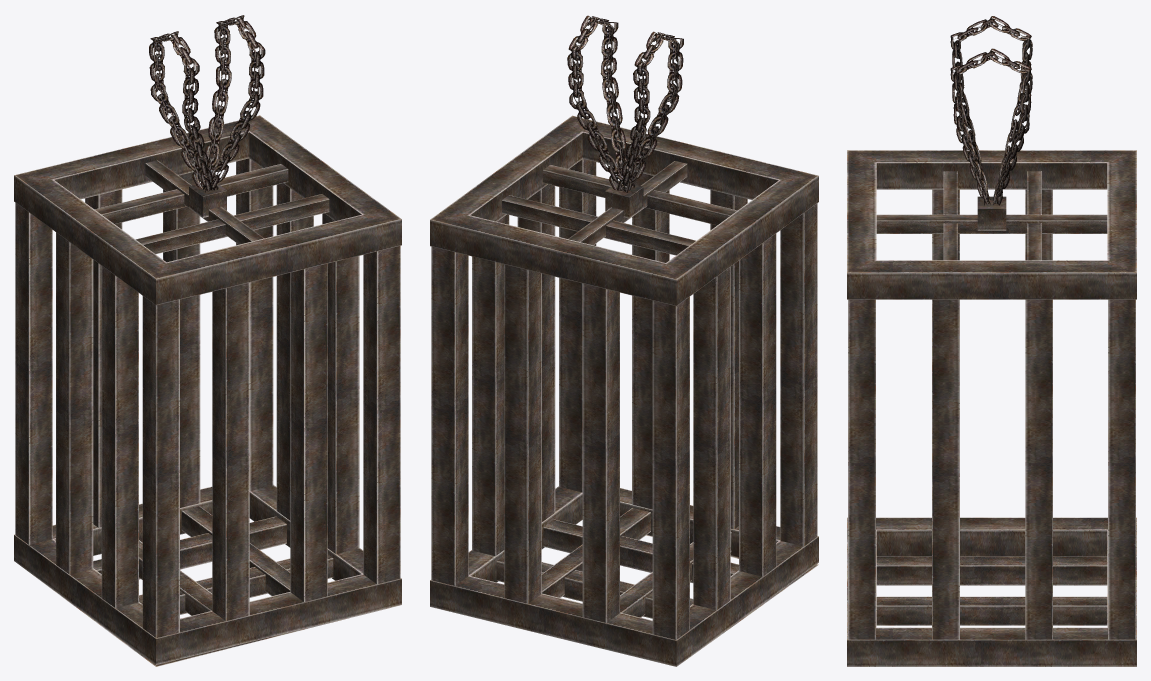
File: environment_common_tiediaolong_001_a.FBX
3 views of the same model, side by side, from view 1: azimuth 30°, elevation 25°; view 2: azimuth 150°, elevation 25°; view 3: azimuth 270°, elevation 25° (orthographic). The views are drawn at different scales.
Parts seen in each view (by area): view 1: environment_common_tiediaolong_001_a; view 2: environment_common_tiediaolong_001_a; view 3: environment_common_tiediaolong_001_a.
Part boxes in pixels (<box>): environment_common_tiediaolong_001_a: <box>14,15,401,666</box>; environment_common_tiediaolong_001_a: <box>430,15,818,666</box>; environment_common_tiediaolong_001_a: <box>847,16,1136,666</box>.
Bounding box in the file's own units: 67.88 × 148 × 67.88.
